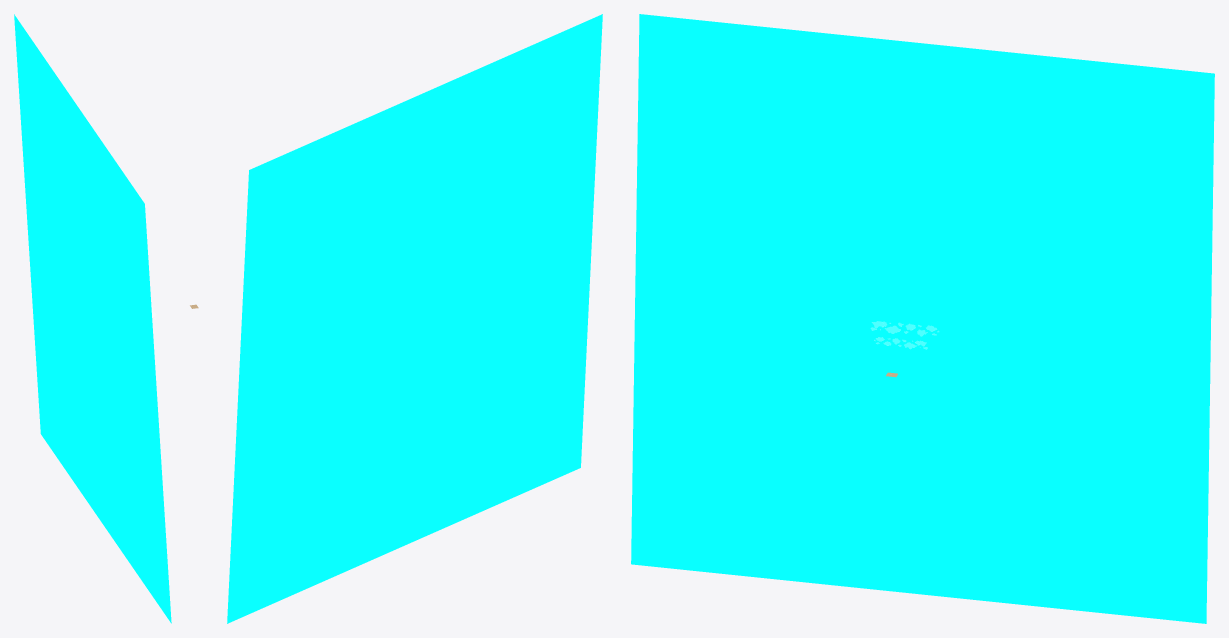
Rendered from foreground.glb.
3 views of the same model, side by side, from view 1: azimuth 30°, elevation 25°; view 2: azimuth 150°, elevation 25°; view 3: azimuth 270°, elevation 25° (orthographic). The views are drawn at different scales.
Parts seen in each view (by area): view 1: AKS74; view 2: AKS74; view 3: AKS74.
Part boxes in pixels (<box>): AKS74: <box>14,14,171,623</box>; AKS74: <box>227,14,602,623</box>; AKS74: <box>631,14,1214,623</box>.
Size of the model in its own units: 321 by 848 by 837.
